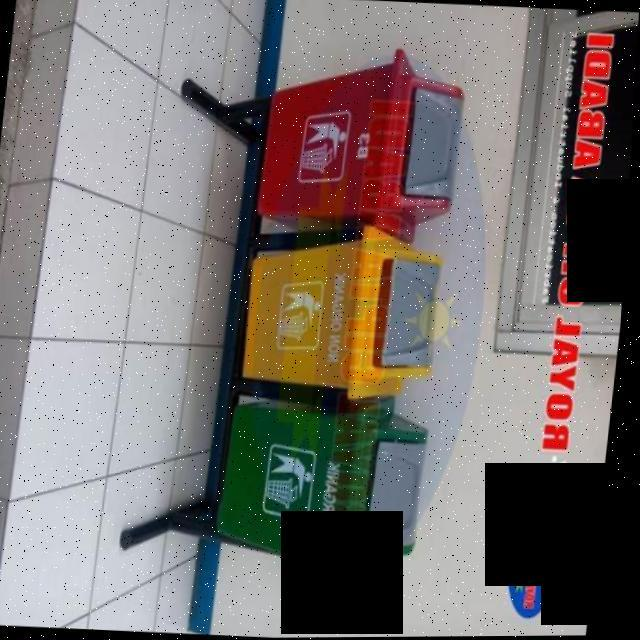bin: (171, 377, 463, 613), (227, 41, 489, 231), (192, 217, 460, 399)
